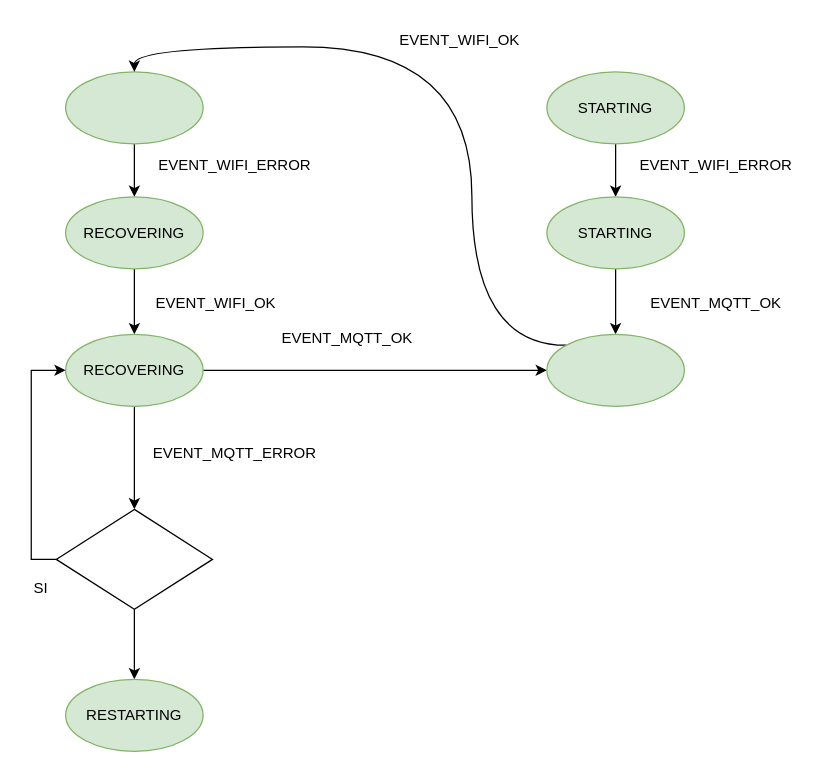
The diagram is 830 pixels wide and 773 high, and some of its shapes have lost their labels. The box of each missing label's shape, as (x1, y1, x2, y2) in pixels:
DEVICE_READY: (546, 333, 684, 406)
ERROR_APP: (64, 71, 203, 144)
RETRY < 10: (55, 508, 212, 609)
